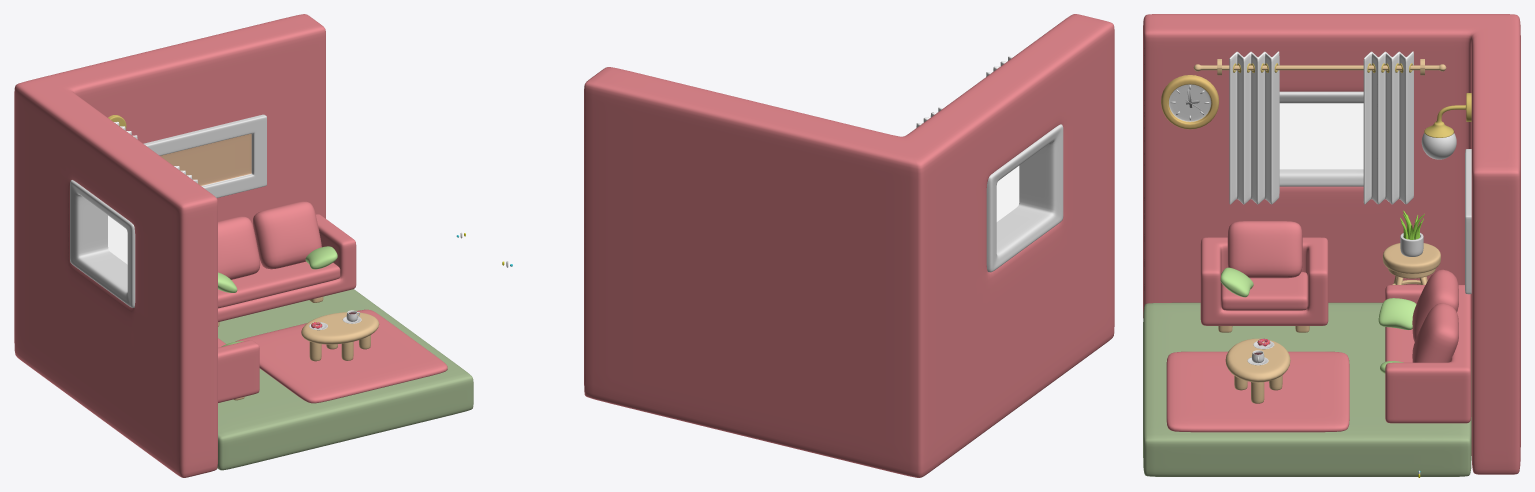
Rendered from room_practice.glb.
3 renders of one model, left to right at view 1: azimuth 30°, elevation 25°; view 2: azimuth 150°, elevation 25°; view 3: azimuth 270°, elevation 25°, orthographic. The views are drawn at different scales.
Parts seen in each view (by area): view 1: window, Floor, Rug, Cube.003, Couch, Frame.001, Cube.001, Couch.001, coffee_table, Cube, cushion.001; view 2: window, Frame.001; view 3: window, Floor, Rug, Frame.001, Couch.001, Couch, curtain.001, curtain, Cube.002, coffee_table, clock, Cube.001 (+9 smaller).
Boxes of the visible parts, x1=… form: window: x1=14, y1=14, x2=325, y2=477; Floor: x1=217, y1=289, x2=473, y2=470; Rug: x1=235, y1=309, x2=447, y2=403; Cube.003: x1=143, y1=114, x2=266, y2=197; Couch: x1=218, y1=214, x2=356, y2=322; Frame.001: x1=70, y1=180, x2=135, y2=307; Cube.001: x1=253, y1=201, x2=321, y2=269; Couch.001: x1=218, y1=338, x2=259, y2=402; coffee_table: x1=301, y1=312, x2=379, y2=361; Cube: x1=218, y1=216, x2=260, y2=279; cushion.001: x1=305, y1=246, x2=337, y2=269; window: x1=584, y1=14, x2=1114, y2=477; Frame.001: x1=986, y1=124, x2=1063, y2=272; window: x1=1143, y1=14, x2=1520, y2=474; Floor: x1=1143, y1=302, x2=1471, y2=476; Rug: x1=1166, y1=351, x2=1349, y2=432; Frame.001: x1=1279, y1=91, x2=1363, y2=186; Couch.001: x1=1200, y1=237, x2=1328, y2=325; Couch: x1=1385, y1=285, x2=1471, y2=423; curtain.001: x1=1363, y1=51, x2=1413, y2=204; curtain: x1=1229, y1=51, x2=1279, y2=204; Cube.002: x1=1227, y1=221, x2=1302, y2=278; coffee_table: x1=1225, y1=338, x2=1290, y2=403; clock: x1=1161, y1=75, x2=1219, y2=129; Cube.001: x1=1412, y1=303, x2=1458, y2=362.
Size of what is drawn, in the model's own units: 4.89 by 3.15 by 3.51.
